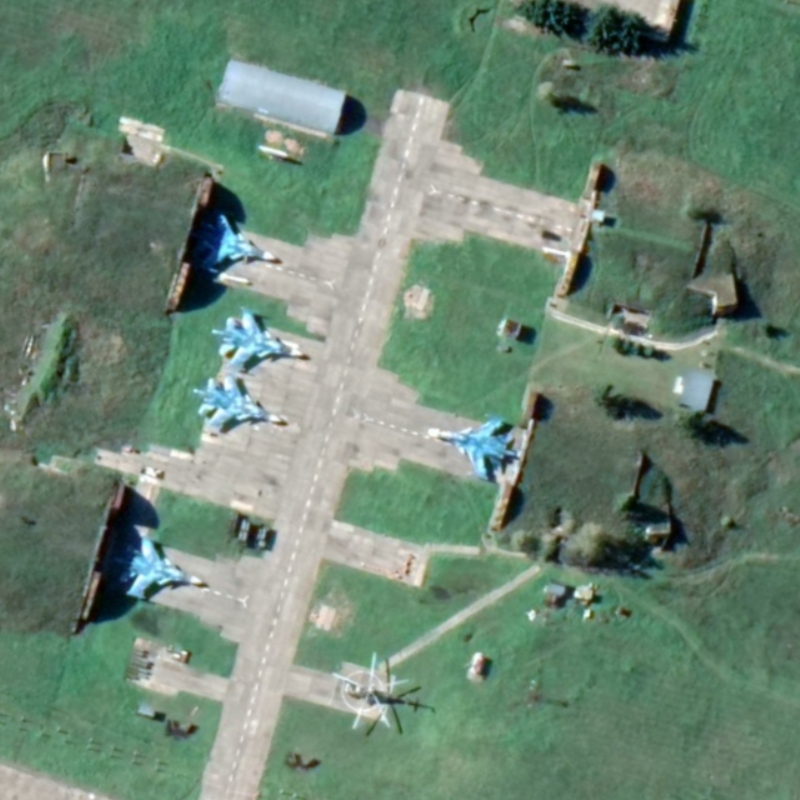A19: (209, 304, 304, 373), (427, 413, 521, 482), (111, 536, 203, 601), (191, 370, 283, 434), (191, 212, 276, 275)
